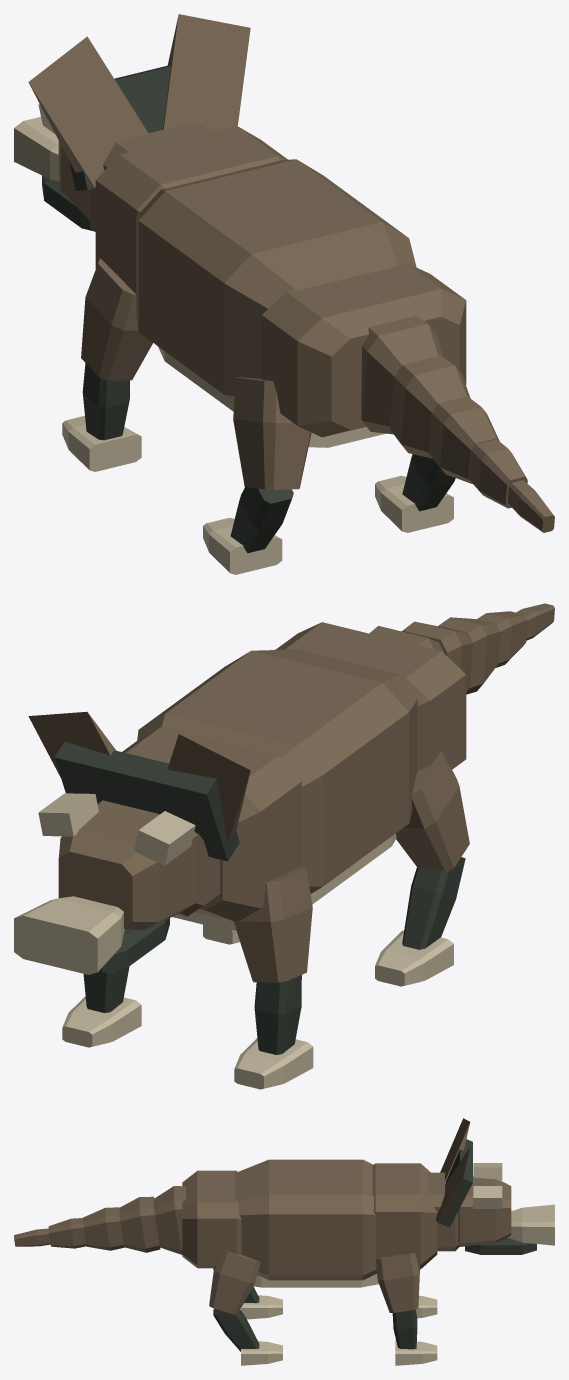
File: Crestgrazer__LOD1.gltf
The picture shows the model from 3 angles, top to bottom: view 1: azimuth 30°, elevation 25°; view 2: azimuth 150°, elevation 25°; view 3: azimuth 270°, elevation 25°; orthographic projection. The views are drawn at different scales.
Visible parts, largest first — view 1: Root, Head, Leg-11.22, Leg-1-1.02, Leg-1-1.02_Knee, Leg-11.22_Knee, Tail0, Tail1, Leg11.22_Knee, Tail2, Tail3, Neck (+1 smaller); view 2: Root, Head, Leg-1-1.02, Leg-11.22_Knee, Leg-1-1.02_Knee, Leg-11.22, Leg1-1.02_Knee, Tail2, Tail1, Tail3, Neck, Tail4 (+1 smaller); view 3: Root, Head, Leg11.22, Leg1-1.02, Leg11.22_Knee, Tail1, Tail0, Leg1-1.02_Knee, Tail2, Neck, Tail3, Leg-11.22_Knee (+2 smaller).
Boxes of the visible parts, x1,y1,x2,y2 form: Root: (95, 126, 466, 447); Head: (14, 14, 250, 231); Leg-11.22: (233, 377, 311, 489); Leg-1-1.02: (81, 258, 152, 380); Leg-1-1.02_Knee: (62, 363, 141, 471); Leg-11.22_Knee: (203, 487, 293, 574); Tail0: (361, 316, 442, 434); Tail1: (390, 355, 470, 458); Leg11.22_Knee: (375, 454, 455, 532); Tail2: (428, 396, 499, 483); Tail3: (469, 439, 527, 508); Neck: (89, 122, 210, 231); Root: (122, 622, 466, 930); Head: (14, 711, 250, 974); Leg-1-1.02: (233, 866, 312, 982); Leg-11.22_Knee: (375, 857, 465, 986); Leg-1-1.02_Knee: (234, 975, 313, 1089); Leg-11.22: (396, 750, 469, 872); Leg1-1.02_Knee: (62, 966, 141, 1047); Tail2: (438, 617, 500, 694); Tail1: (402, 621, 472, 691); Tail3: (477, 611, 527, 667); Neck: (178, 833, 220, 916); Tail4: (516, 603, 554, 640); Root: (182, 1159, 437, 1287); Head: (436, 1118, 554, 1254); Leg11.22: (209, 1250, 260, 1314); Leg1-1.02: (375, 1253, 419, 1312); Leg11.22_Knee: (213, 1308, 282, 1365); Tail1: (119, 1196, 160, 1252); Tail0: (154, 1186, 185, 1254); Leg1-1.02_Knee: (392, 1309, 437, 1365); Tail2: (83, 1207, 124, 1250); Neck: (428, 1172, 459, 1251); Tail3: (48, 1218, 86, 1248); Leg-11.22_Knee: (213, 1268, 282, 1319).
Bounding box in the file's own units: 2.06 × 3.26 × 7.86.
Materials: 1 (1 with a texture image).
